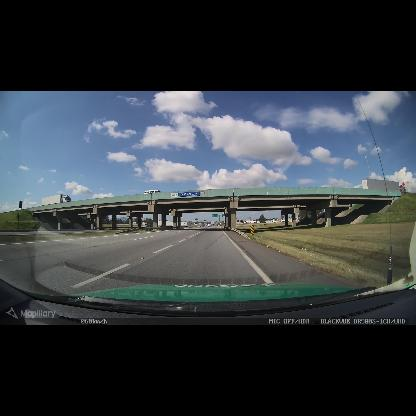O-MP: (250, 224, 254, 235)
R-15: (200, 191, 205, 195)
